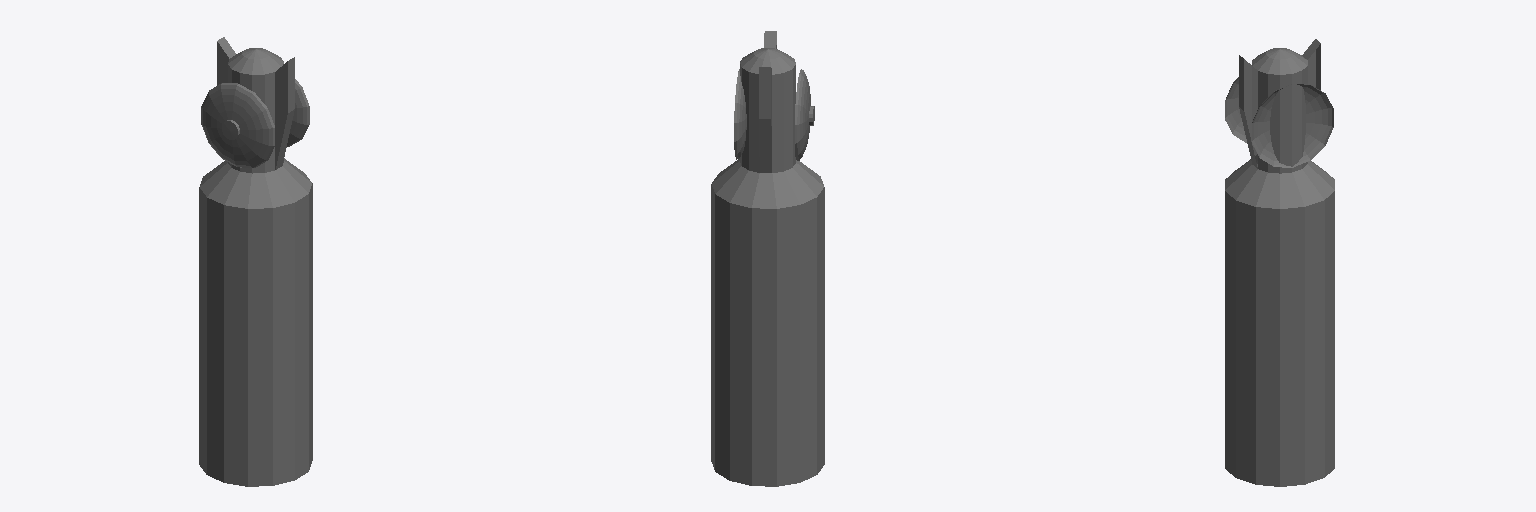
File: building_evil.obj
3 views of the same model, side by side, from view 1: azimuth 30°, elevation 25°; view 2: azimuth 150°, elevation 25°; view 3: azimuth 270°, elevation 25° (orthographic).
Visible parts, largest first — view 1: evilbuilding:polySurface100; view 2: evilbuilding:polySurface100; view 3: evilbuilding:polySurface100.
Boxes of the visible parts, x1,y1,x2,y2 form: evilbuilding:polySurface100: [199, 37, 312, 486]; evilbuilding:polySurface100: [711, 31, 824, 486]; evilbuilding:polySurface100: [1225, 39, 1334, 486].
Size of the model in its own units: 66.74 by 269 by 65.16.